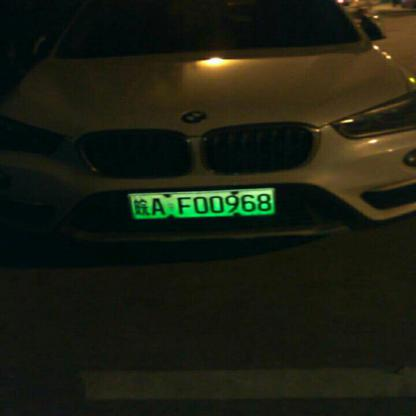lp: (129, 188, 275, 219)
